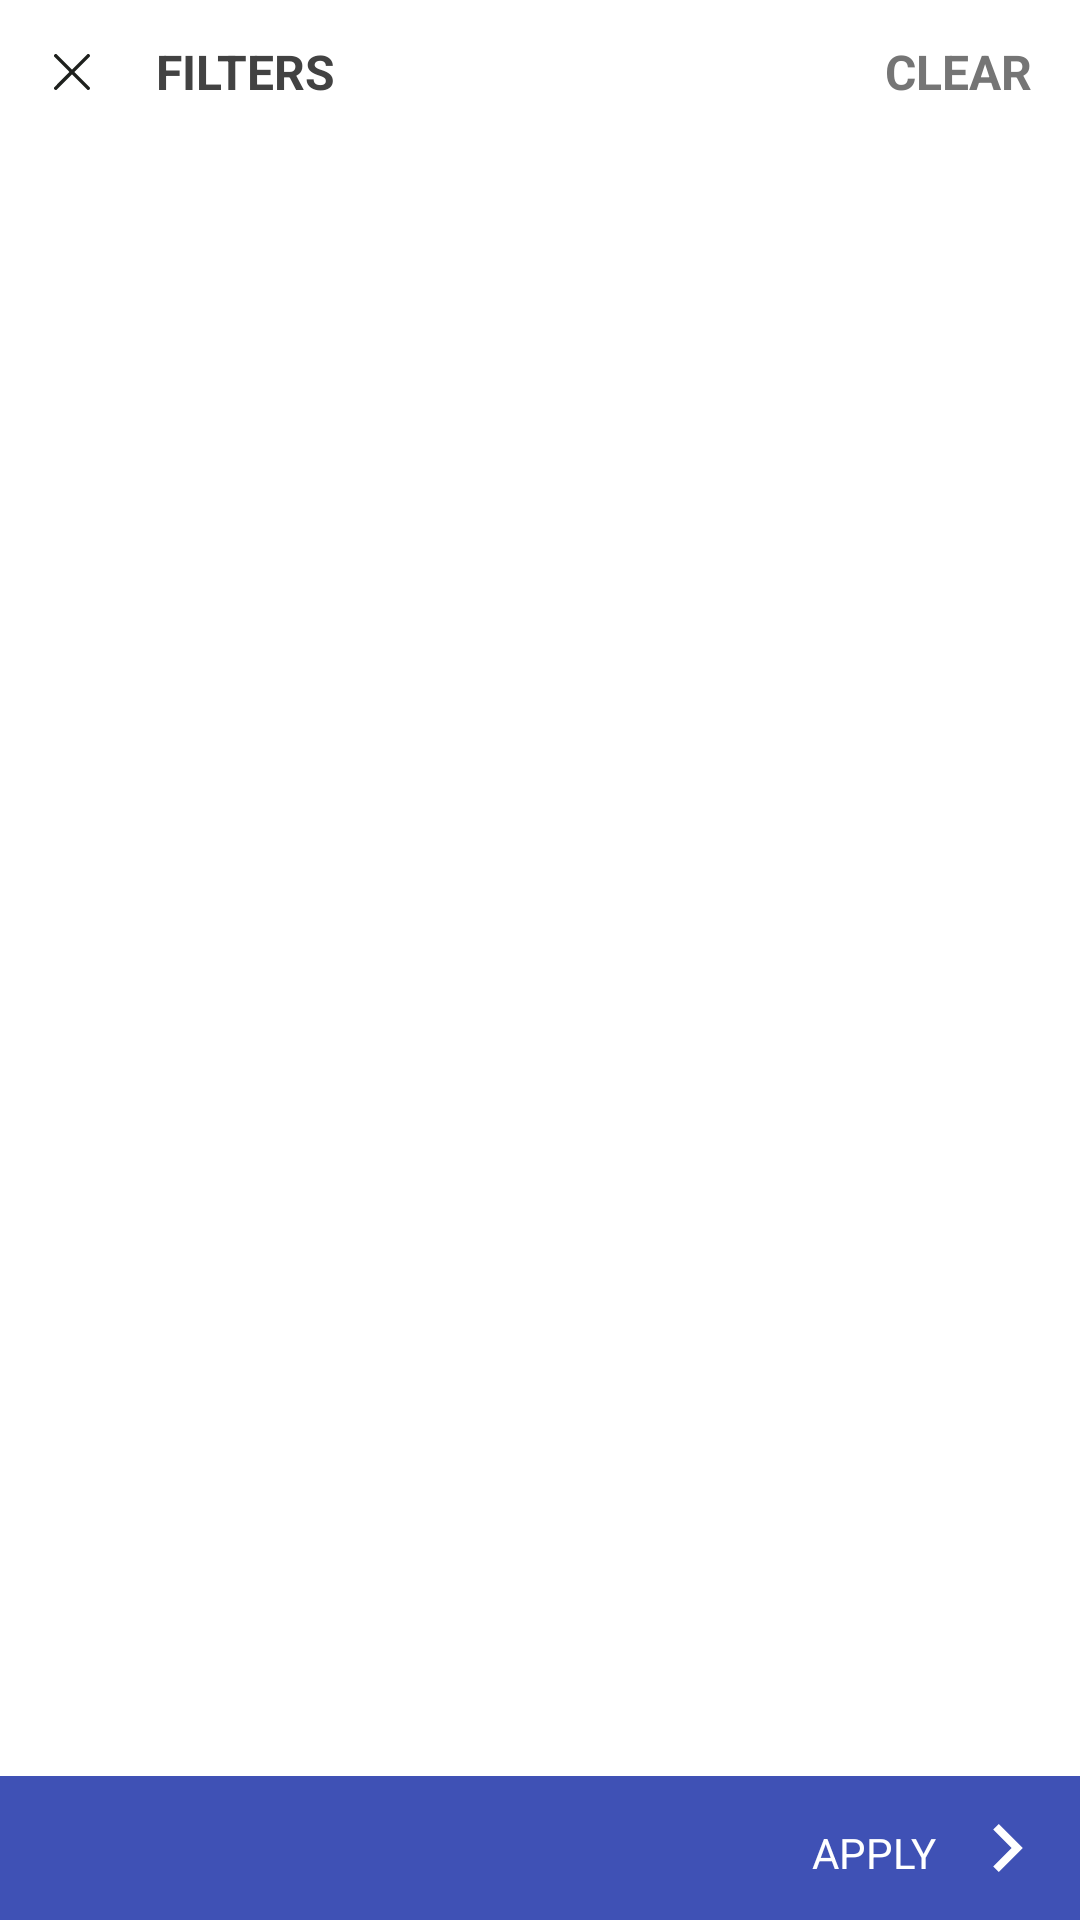

Icons on this 1080 × 1920 Android screen, each with the point to tap as point (x, y):
cross: point (72, 72)
forward: point (1008, 1848)
